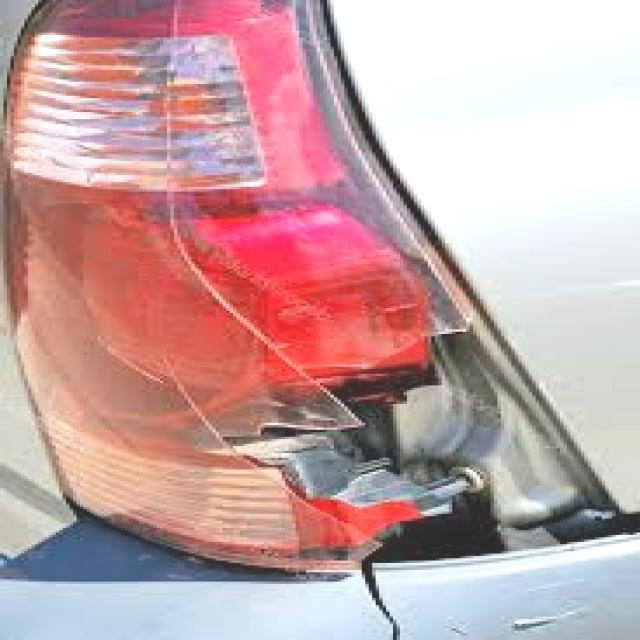minor: (492, 610, 582, 640), (441, 622, 467, 640)
moderate: (6, 122, 585, 576)
